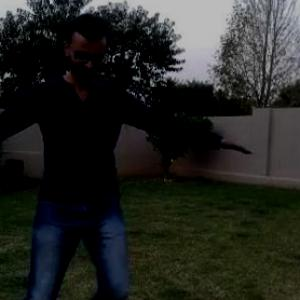land: (0, 36, 199, 299)
